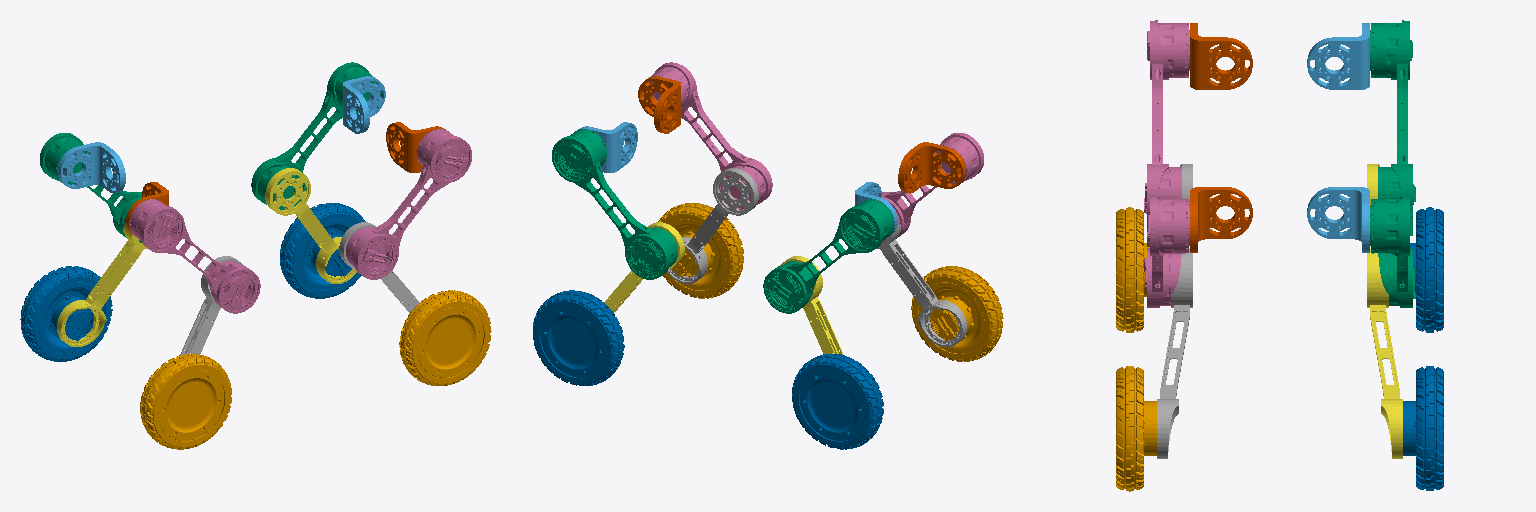
The robot description file, URDF, robot "ancnw":
<?xml version='1.0' encoding='utf-8'?>
<robot name="ancnw">
  <mujoco>
    <compiler meshdir="../meshes/" balanceinertia="false" discardvisual="false"/>
  </mujoco>
  <link name="base_link">
    <inertial>
      <origin xyz="0.001803 4.1448e-07 -0.0027627" rpy="0 0 0" />
      <mass value="17.365" />
      <inertia ixx="0.031423" ixy="1.3095e-06" ixz="-1.6021e-10" iyy="0.088325" iyz="-1.1857e-10" izz="0.095504" />
    </inertial>
    <visual>
      <origin xyz="0 0 0" rpy="1.57079632679 0 0" />
      <geometry>
        <mesh filename="../meshes/base_link.STL" />
      </geometry>
    </visual>
    <collision>
      <origin xyz="0 0 0" rpy="0 0 0" />
      <geometry>
        <box size="0.62 0.3 0.17" />
      </geometry>
    </collision>
  </link>
  <link name="fl_hip">
    <inertial>
      <origin xyz="-0.03473469272 0.03426741478 0" rpy="0 0 0" />
      <mass value="0.5691837695" />
      <inertia ixx="0.001031364404" ixy="-0.0002973707572" ixz="4.93611251e-19" iyy="0.00102381747" iyz="-3.244088109e-19" izz="0.001112336596" />
    </inertial>
    <visual>
      <origin xyz="0 0 0" rpy="1.57079632679 0 0" />
      <geometry>
        <mesh filename="../meshes/fl_hip.STL" />
      </geometry>
    </visual>
    <collision>
      <origin xyz="0 0.0696 0" rpy="0 0 0" />
      <geometry>
        <box size="0.10 0.20 0.15" />
      </geometry>
    </collision>
  </link>
  <link name="fl_thigh">
    <inertial>
      <origin xyz="-0.1001271579 -0.0340046149 -0.1001278489" rpy="0 0 0" />
      <mass value="3.210652957" />
      <inertia ixx="0.003533235178" ixy="3.042365225e-06" ixz="-0.0004491682014" iyy="0.005054110969" iyz="3.068180498e-06" izz="0.003533866685" />
    </inertial>
    <visual>
      <origin xyz="0 0 0" rpy="1.57079632679 0 0" />
      <geometry>
        <mesh filename="../meshes/fl_thigh.STL" />
      </geometry>
    </visual>
    <collision>
      <origin xyz="-0.098995 0.0025 -0.098995" rpy="0 -2.35619 -0.02525" />
      <geometry>
        <cylinder radius="0.055" length="0.28" />
      </geometry>
    </collision>
  </link>
  <link name="fl_calf">
    <inertial>
      <origin xyz="0.07475180192 -0.05369632014 -0.1067710935" rpy="0 0 0" />
      <mass value="0.5738176924" />
      <inertia ixx="0.0009059918729" ixy="-7.681871423e-05" ixz="0.0002669398597" iyy="0.001482574161" iyz="0.000109744037" izz="0.000711652797" />
    </inertial>
    <visual>
      <origin xyz="0 0 0" rpy="1.57079632679 0 0" />
      <geometry>
        <mesh filename="../meshes/fl_calf.STL" />
      </geometry>
    </visual>
    <collision>
      <origin xyz="0.0803 -0.01205 -0.11468" rpy="0 2.52434 -0.14897" />
      <geometry>
        <cylinder radius="0.045" length="0.281" />
      </geometry>
    </collision>
  </link>
  <link name="fl_wheel">
    <inertial>
      <origin xyz="7.113017924e-05 0.05004358058 -9.212244903e-05" rpy="0 0 0" />
      <mass value="2.344065497" />
      <inertia ixx="0.007656505181" ixy="4.38714471e-06" ixz="4.07263855e-06" iyy="0.01445422458" iyz="-6.09924389e-06" izz="0.007653775046" />
    </inertial>
    <visual>
      <origin xyz="0 0 0" rpy="1.57079632679 0 0" />
      <geometry>
        <mesh filename="../meshes/fl_wheel.STL" />
      </geometry>
    </visual>
    <collision>
      <origin xyz="0 0 0" rpy="1.5707963 0 0" />
      <geometry>
        <cylinder radius="0.11" length="0.1" />
      </geometry>
    </collision>
  </link>
  <link name="fr_hip">
    <inertial>
      <origin xyz="-0.03473469272 -0.03426741478 0" rpy="0 0 0" />
      <mass value="0.5691837695" />
      <inertia ixx="0.001031364404" ixy="0.0002973707572" ixz="-3.152122688e-19" iyy="0.00102381747" iyz="-6.447509271e-20" izz="0.001112336596" />
    </inertial>
    <visual>
      <origin xyz="0 0 0" rpy="1.57079632679 0 0" />
      <geometry>
        <mesh filename="../meshes/fr_hip.STL" />
      </geometry>
    </visual>
    <collision>
      <origin xyz="0 -0.0696 0" rpy="0 0 0" />
      <geometry>
        <box size="0.10 0.20 0.15" />
      </geometry>
    </collision>
  </link>
  <link name="fr_thigh">
    <inertial>
      <origin xyz="-0.1001278489 0.0340046149 -0.1001271579" rpy="0 0 0" />
      <mass value="3.210652957" />
      <inertia ixx="0.003533866685" ixy="-3.068180498e-06" ixz="-0.0004491682014" iyy="0.005054110969" iyz="-3.042365225e-06" izz="0.003533235178" />
    </inertial>
    <visual>
      <origin xyz="0 0 0" rpy="1.57079632679 0 0" />
      <geometry>
        <mesh filename="../meshes/fr_thigh.STL" />
      </geometry>
    </visual>
    <collision>
      <origin xyz="-0.098995 -0.0025 -0.098995" rpy="0 -2.35619 0.02525" />
      <geometry>
        <cylinder radius="0.055" length="0.28" />
      </geometry>
    </collision>
  </link>
  <link name="fr_calf">
    <inertial>
      <origin xyz="0.07476540674 0.05369631876 -0.1067616028" rpy="0 0 0" />
      <mass value="0.5738178378" />
      <inertia ixx="0.0009059719929" ixy="7.685212349e-05" ixz="0.0002669471878" iyy="0.001482574321" iyz="-0.0001097207265" izz="0.0007116729186" />
    </inertial>
    <visual>
      <origin xyz="0 0 0" rpy="1.57079632679 0 0" />
      <geometry>
        <mesh filename="../meshes/fr_calf.STL" />
      </geometry>
    </visual>
    <collision>
      <origin xyz="0.0803 0.01205 -0.11468" rpy="0 2.52434 0.14897" />
      <geometry>
        <cylinder radius="0.045" length="0.281" />
      </geometry>
    </collision>
  </link>
  <link name="fr_wheel">
    <inertial>
      <origin xyz="6.223877254e-05 -0.05004358055 -9.834821087e-05" rpy="0 0 0" />
      <mass value="2.344065494" />
      <inertia ixx="0.007656712236" ixy="-4.230922029e-06" ixz="3.997281395e-06" iyy="0.01445422455" iyz="6.208634152e-06" izz="0.007653567961" />
    </inertial>
    <visual>
      <origin xyz="0 0 0" rpy="1.57079632679 0 0" />
      <geometry>
        <mesh filename="../meshes/fr_wheel.STL" />
      </geometry>
    </visual>
    <collision>
      <origin xyz="0 0 0" rpy="1.5707963 0 0" />
      <geometry>
        <cylinder radius="0.11" length="0.1" />
      </geometry>
    </collision>
  </link>
  <link name="hl_hip">
    <inertial>
      <origin xyz="0.03473469272 0.03426741478 0" rpy="0 0 0" />
      <mass value="0.5691837695" />
      <inertia ixx="0.001031364404" ixy="0.0002973707572" ixz="1.395024087e-19" iyy="0.00102381747" iyz="4.167190211e-19" izz="0.001112336596" />
    </inertial>
    <visual>
      <origin xyz="0 0 0" rpy="1.57079632679 0 0" />
      <geometry>
        <mesh filename="../meshes/hl_hip.STL" />
      </geometry>
    </visual>
    <collision>
      <origin xyz="0 0.0696 0" rpy="0 0 0" />
      <geometry>
        <box size="0.10 0.20 0.15" />
      </geometry>
    </collision>
  </link>
  <link name="hl_thigh">
    <inertial>
      <origin xyz="0.1001278489 -0.0340046149 -0.1001271579" rpy="0 0 0" />
      <mass value="3.210652957" />
      <inertia ixx="0.003533866685" ixy="-3.068180498e-06" ixz="0.0004491682014" iyy="0.005054110969" iyz="3.042365225e-06" izz="0.003533235178" />
    </inertial>
    <visual>
      <origin xyz="0 0 0" rpy="1.57079632679 0 0" />
      <geometry>
        <mesh filename="../meshes/hl_thigh.STL" />
      </geometry>
    </visual>
    <collision>
      <origin xyz="0.098995 0.0025 -0.098995" rpy="0 2.35619 0.02525" />
      <geometry>
        <cylinder radius="0.055" length="0.28" />
      </geometry>
    </collision>
  </link>
  <link name="hl_calf">
    <inertial>
      <origin xyz="-0.07476540674 -0.05369631876 -0.1067616028" rpy="0 0 0" />
      <mass value="0.5738178378" />
      <inertia ixx="0.0009059719929" ixy="7.685212349e-05" ixz="-0.0002669471878" iyy="0.001482574321" iyz="0.0001097207265" izz="0.0007116729186" />
    </inertial>
    <visual>
      <origin xyz="0 0 0" rpy="1.57079632679 0 0" />
      <geometry>
        <mesh filename="../meshes/hl_calf.STL" />
      </geometry>
    </visual>
    <collision>
      <origin xyz="-0.0803 -0.01205 -0.11468" rpy="0 2.52434 -2.99262" />
      <geometry>
        <cylinder radius="0.045" length="0.281" />
      </geometry>
    </collision>
  </link>
  <link name="hl_wheel">
    <inertial>
      <origin xyz="-6.223876777e-05 0.05004358057 -9.834827772e-05" rpy="0 0 0" />
      <mass value="2.344065496" />
      <inertia ixx="0.00765671225" ixy="-4.230922176e-06" ixz="-3.997280424e-06" iyy="0.01445422457" iyz="-6.208632056e-06" izz="0.007653567961" />
    </inertial>
    <visual>
      <origin xyz="0 0 0" rpy="1.57079632679 0 0" />
      <geometry>
        <mesh filename="../meshes/hl_wheel.STL" />
      </geometry>
    </visual>
    <collision>
      <origin xyz="0 0 0" rpy="1.5707963 0 0" />
      <geometry>
        <cylinder radius="0.11" length="0.1" />
      </geometry>
    </collision>
  </link>
  <link name="hr_hip">
    <inertial>
      <origin xyz="0.03473469272 -0.03426741478 0" rpy="0 0 0" />
      <mass value="0.5691837695" />
      <inertia ixx="0.001031364404" ixy="-0.0002973707572" ixz="-2.853398163e-19" iyy="0.00102381747" iyz="6.950445872e-19" izz="0.001112336596" />
    </inertial>
    <visual>
      <origin xyz="0 0 0" rpy="1.57079632679 0 0" />
      <geometry>
        <mesh filename="../meshes/hr_hip.STL" />
      </geometry>
    </visual>
    <collision>
      <origin xyz="0 -0.0696 0" rpy="0 0 0" />
      <geometry>
        <box size="0.10 0.20 0.15" />
      </geometry>
    </collision>
  </link>
  <link name="hr_thigh">
    <inertial>
      <origin xyz="0.1001271579 0.0340046149 -0.1001278489" rpy="0 0 0" />
      <mass value="3.210652957" />
      <inertia ixx="0.003533235178" ixy="3.042365225e-06" ixz="0.0004491682014" iyy="0.005054110969" iyz="-3.068180498e-06" izz="0.003533866685" />
    </inertial>
    <visual>
      <origin xyz="0 0 0" rpy="1.57079632679 0 0" />
      <geometry>
        <mesh filename="../meshes/hr_thigh.STL" />
      </geometry>
    </visual>
    <collision>
      <origin xyz="0.098995 -0.0025 -0.098995" rpy="0 2.35619 -0.02525" />
      <geometry>
        <cylinder radius="0.055" length="0.28" />
      </geometry>
    </collision>
  </link>
  <link name="hr_calf">
    <inertial>
      <origin xyz="-0.07475180192 0.05369632014 -0.1067710935" rpy="0 0 0" />
      <mass value="0.5738176924" />
      <inertia ixx="0.0009059918729" ixy="-7.681871423e-05" ixz="-0.0002669398597" iyy="0.001482574161" iyz="-0.000109744037" izz="0.000711652797" />
    </inertial>
    <visual>
      <origin xyz="0 0 0" rpy="1.57079632679 0 0" />
      <geometry>
        <mesh filename="../meshes/hr_calf.STL" />
      </geometry>
    </visual>
    <collision>
      <origin xyz="-0.0803 0.01205 -0.11468" rpy="0 2.52434 2.99262" />
      <geometry>
        <cylinder radius="0.045" length="0.281" />
      </geometry>
    </collision>
  </link>
  <link name="hr_wheel">
    <inertial>
      <origin xyz="-7.113014127e-05 -0.05004358055 -9.212240936e-05" rpy="0 0 0" />
      <mass value="2.344065494" />
      <inertia ixx="0.007656505166" ixy="4.387145895e-06" ixz="-4.072647833e-06" iyy="0.01445422455" iyz="6.099245108e-06" izz="0.007653775031" />
    </inertial>
    <visual>
      <origin xyz="0 0 0" rpy="1.57079632679 0 0" />
      <geometry>
        <mesh filename="../meshes/hr_wheel.STL" />
      </geometry>
    </visual>
    <collision>
      <origin xyz="0 0 0" rpy="1.5707963 0 0" />
      <geometry>
        <cylinder radius="0.11" length="0.1" />
      </geometry>
    </collision>
  </link>
  <joint name="fl_hip_joint" type="revolute">
    <origin xyz="0.3816 0.1 0" rpy="0 0 0" />
    <parent link="base_link" />
    <child link="fl_hip" />
    <axis xyz="1 0 0" />
    <limit lower="-0.611" upper="0.436" effort="113" velocity="15.708" />
    <dynamics damping="0.05" friction="0.01" />
  </joint>
  <joint name="fl_thigh_joint" type="revolute">
    <origin xyz="0 0.1391 0" rpy="0 0 0" />
    <parent link="fl_hip" />
    <child link="fl_thigh" />
    <axis xyz="0 -1 0" />
    <limit lower="-2.583" upper="2.286" effort="113" velocity="15.708" />
    <dynamics damping="0.05" friction="0.01" />
  </joint>
  <joint name="fl_calf_joint" type="revolute">
    <origin xyz="-0.19799 0.005 -0.19799" rpy="0 0 0" />
    <parent link="fl_thigh" />
    <child link="fl_calf" />
    <axis xyz="0 -1 0" />
    <limit lower="-2.792" upper="2.809" effort="113" velocity="15.708" />
    <dynamics damping="0.05" friction="0.01" />
  </joint>
  <joint name="fl_wheel_joint" type="continuous">
    <origin xyz="0.1606 -0.0241 -0.22936" rpy="0 0 0" />
    <parent link="fl_calf" />
    <child link="fl_wheel" />
    <axis xyz="0 -1 0" />
    <limit effort="19.3" velocity="94.248" />
    <dynamics damping="0.05" friction="0.01" />
  </joint>
  <joint name="fr_hip_joint" type="revolute">
    <origin xyz="0.3816 -0.1 0" rpy="0 0 0" />
    <parent link="base_link" />
    <child link="fr_hip" />
    <axis xyz="1 0 0" />
    <limit lower="-0.436" upper="0.611" effort="113" velocity="15.708" />
    <dynamics damping="0.05" friction="0.01" />
  </joint>
  <joint name="fr_thigh_joint" type="revolute">
    <origin xyz="0 -0.1391 0" rpy="0 0 0" />
    <parent link="fr_hip" />
    <child link="fr_thigh" />
    <axis xyz="0 -1 0" />
    <limit lower="-2.583" upper="2.286" effort="113" velocity="15.708" />
    <dynamics damping="0.05" friction="0.01" />
  </joint>
  <joint name="fr_calf_joint" type="revolute">
    <origin xyz="-0.19799 -0.005 -0.19799" rpy="0 0 0" />
    <parent link="fr_thigh" />
    <child link="fr_calf" />
    <axis xyz="0 -1 0" />
    <limit lower="-2.792" upper="2.809" effort="113" velocity="15.708" />
    <dynamics damping="0.05" friction="0.01" />
  </joint>
  <joint name="fr_wheel_joint" type="continuous">
    <origin xyz="0.1606 0.0241 -0.22936" rpy="0 0 0" />
    <parent link="fr_calf" />
    <child link="fr_wheel" />
    <axis xyz="0 -1 0" />
    <limit effort="19.3" velocity="94.248" />
    <dynamics damping="0.05" friction="0.01" />
  </joint>
  <joint name="hl_hip_joint" type="revolute">
    <origin xyz="-0.3816 0.1 0" rpy="0 0 0" />
    <parent link="base_link" />
    <child link="hl_hip" />
    <axis xyz="1 0 0" />
    <limit lower="-0.611" upper="0.436" effort="113" velocity="15.708" />
    <dynamics damping="0.05" friction="0.01" />
  </joint>
  <joint name="hl_thigh_joint" type="revolute">
    <origin xyz="0 0.1391 0" rpy="0 0 0" />
    <parent link="hl_hip" />
    <child link="hl_thigh" />
    <axis xyz="0 -1 0" />
    <limit lower="-2.286" upper="2.583" effort="113" velocity="15.708" />
    <dynamics damping="0.05" friction="0.01" />
  </joint>
  <joint name="hl_calf_joint" type="revolute">
    <origin xyz="0.19799 0.005 -0.19799" rpy="0 0 0" />
    <parent link="hl_thigh" />
    <child link="hl_calf" />
    <axis xyz="0 -1 0" />
    <limit lower="-2.809" upper="2.792" effort="113" velocity="15.708" />
    <dynamics damping="0.05" friction="0.01" />
  </joint>
  <joint name="hl_wheel_joint" type="continuous">
    <origin xyz="-0.1606 -0.0241 -0.22936" rpy="0 0 0" />
    <parent link="hl_calf" />
    <child link="hl_wheel" />
    <axis xyz="0 -1 0" />
    <limit effort="19.3" velocity="94.248" />
    <dynamics damping="0.05" friction="0.01" />
  </joint>
  <joint name="hr_hip_joint" type="revolute">
    <origin xyz="-0.3816 -0.1 0" rpy="0 0 0" />
    <parent link="base_link" />
    <child link="hr_hip" />
    <axis xyz="1 0 0" />
    <limit lower="-0.436" upper="0.611" effort="113" velocity="15.708" />
    <dynamics damping="0.05" friction="0.01" />
  </joint>
  <joint name="hr_thigh_joint" type="revolute">
    <origin xyz="0 -0.1391 0" rpy="0 0 0" />
    <parent link="hr_hip" />
    <child link="hr_thigh" />
    <axis xyz="0 -1 0" />
    <limit lower="-2.286" upper="2.583" effort="113" velocity="15.708" />
    <dynamics damping="0.05" friction="0.01" />
  </joint>
  <joint name="hr_calf_joint" type="revolute">
    <origin xyz="0.19799 -0.005 -0.19799" rpy="0 0 0" />
    <parent link="hr_thigh" />
    <child link="hr_calf" />
    <axis xyz="0 -1 0" />
    <limit lower="-2.809" upper="2.792" effort="113" velocity="15.708" />
    <dynamics damping="0.05" friction="0.01" />
  </joint>
  <joint name="hr_wheel_joint" type="continuous">
    <origin xyz="-0.1606 0.0241 -0.22936" rpy="0 0 0" />
    <parent link="hr_calf" />
    <child link="hr_wheel" />
    <axis xyz="0 -1 0" />
    <limit effort="19.3" velocity="94.248" />
    <dynamics damping="0.05" friction="0.01" />
  </joint>
</robot>

--- Render facts (derived) ---
3 views of the same robot in one strip: view 1: azimuth 30°, elevation 25°; view 2: azimuth 150°, elevation 25°; view 3: azimuth 270°, elevation 25° (orthographic).
Model ancnw with 17 links and 16 joints (12 revolute, 4 continuous), rooted at base_link, posed all joints at 0.
Links seen in each view (by area): view 1: hr_wheel, fr_wheel, fr_thigh, hl_wheel, hr_thigh, fl_wheel, fl_thigh, fl_calf, hl_calf, hl_hip, hl_thigh, fl_hip (+4 smaller); view 2: fl_wheel, hl_wheel, fl_thigh, hr_wheel, hl_thigh, fr_wheel, fr_thigh, fr_calf, hr_calf, hr_hip, hr_thigh, fr_hip (+4 smaller); view 3: hr_thigh, hl_thigh, fr_wheel, fl_wheel, fr_thigh, fl_thigh, hl_wheel, hr_wheel, fl_calf, fr_calf, hl_hip, hr_hip (+2 smaller).
Link boxes in pixels (box(x1,y1,x2,y2)): hr_wheel: box(140, 354, 231, 449); fr_wheel: box(399, 290, 491, 385); fr_thigh: box(346, 129, 471, 279); hl_wheel: box(20, 266, 112, 361); hr_thigh: box(130, 199, 260, 313); fl_wheel: box(280, 203, 365, 298); fl_thigh: box(251, 62, 380, 209); fl_calf: box(265, 168, 356, 283); hl_calf: box(57, 223, 147, 346); hl_hip: box(58, 142, 125, 193); hl_thigh: box(40, 133, 141, 242); fl_hip: box(343, 76, 385, 133); fl_wheel: box(533, 290, 624, 385); hl_wheel: box(792, 354, 883, 449); fl_thigh: box(552, 129, 677, 279); hr_wheel: box(911, 266, 1003, 361); hl_thigh: box(763, 199, 893, 313); fr_wheel: box(658, 203, 743, 298); fr_thigh: box(643, 62, 772, 209); fr_calf: box(667, 168, 758, 283); hr_calf: box(876, 223, 966, 346); hr_hip: box(898, 142, 965, 193); hr_thigh: box(882, 133, 983, 242); fr_hip: box(638, 76, 680, 133); hr_thigh: box(1144, 20, 1189, 216); hl_thigh: box(1370, 20, 1415, 217); fr_wheel: box(1116, 366, 1156, 491); fl_wheel: box(1403, 366, 1443, 490); fr_thigh: box(1144, 196, 1189, 307); fl_thigh: box(1370, 196, 1415, 307); hl_wheel: box(1410, 207, 1443, 332); hr_wheel: box(1116, 207, 1149, 332); fl_calf: box(1367, 249, 1402, 458); fr_calf: box(1157, 249, 1192, 458); hl_hip: box(1307, 23, 1369, 89); hr_hip: box(1190, 23, 1252, 89).
Bounding box of the posed robot: 0.9187 × 0.6033 × 0.5975 m (x, y, z).
Meshes: 17 distinct files referenced, 16 mesh visuals loaded (16 binary STL); not drawn: 1 (reference not matched to a file when rendering).
